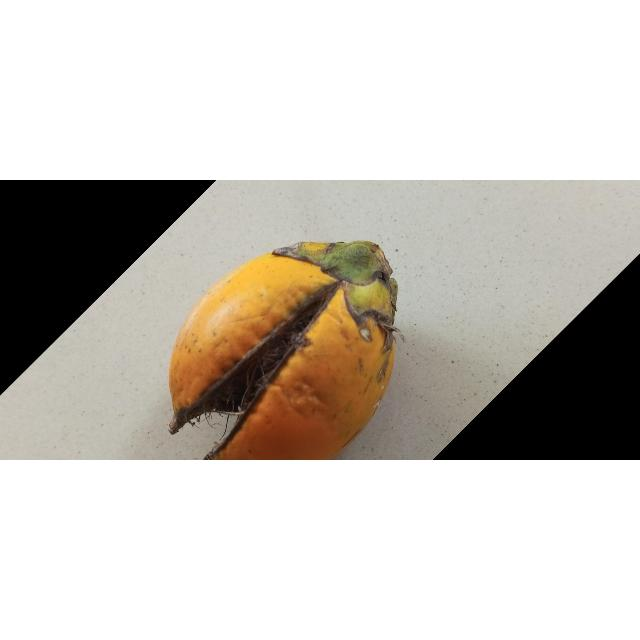damaged: (167, 242, 396, 461)
